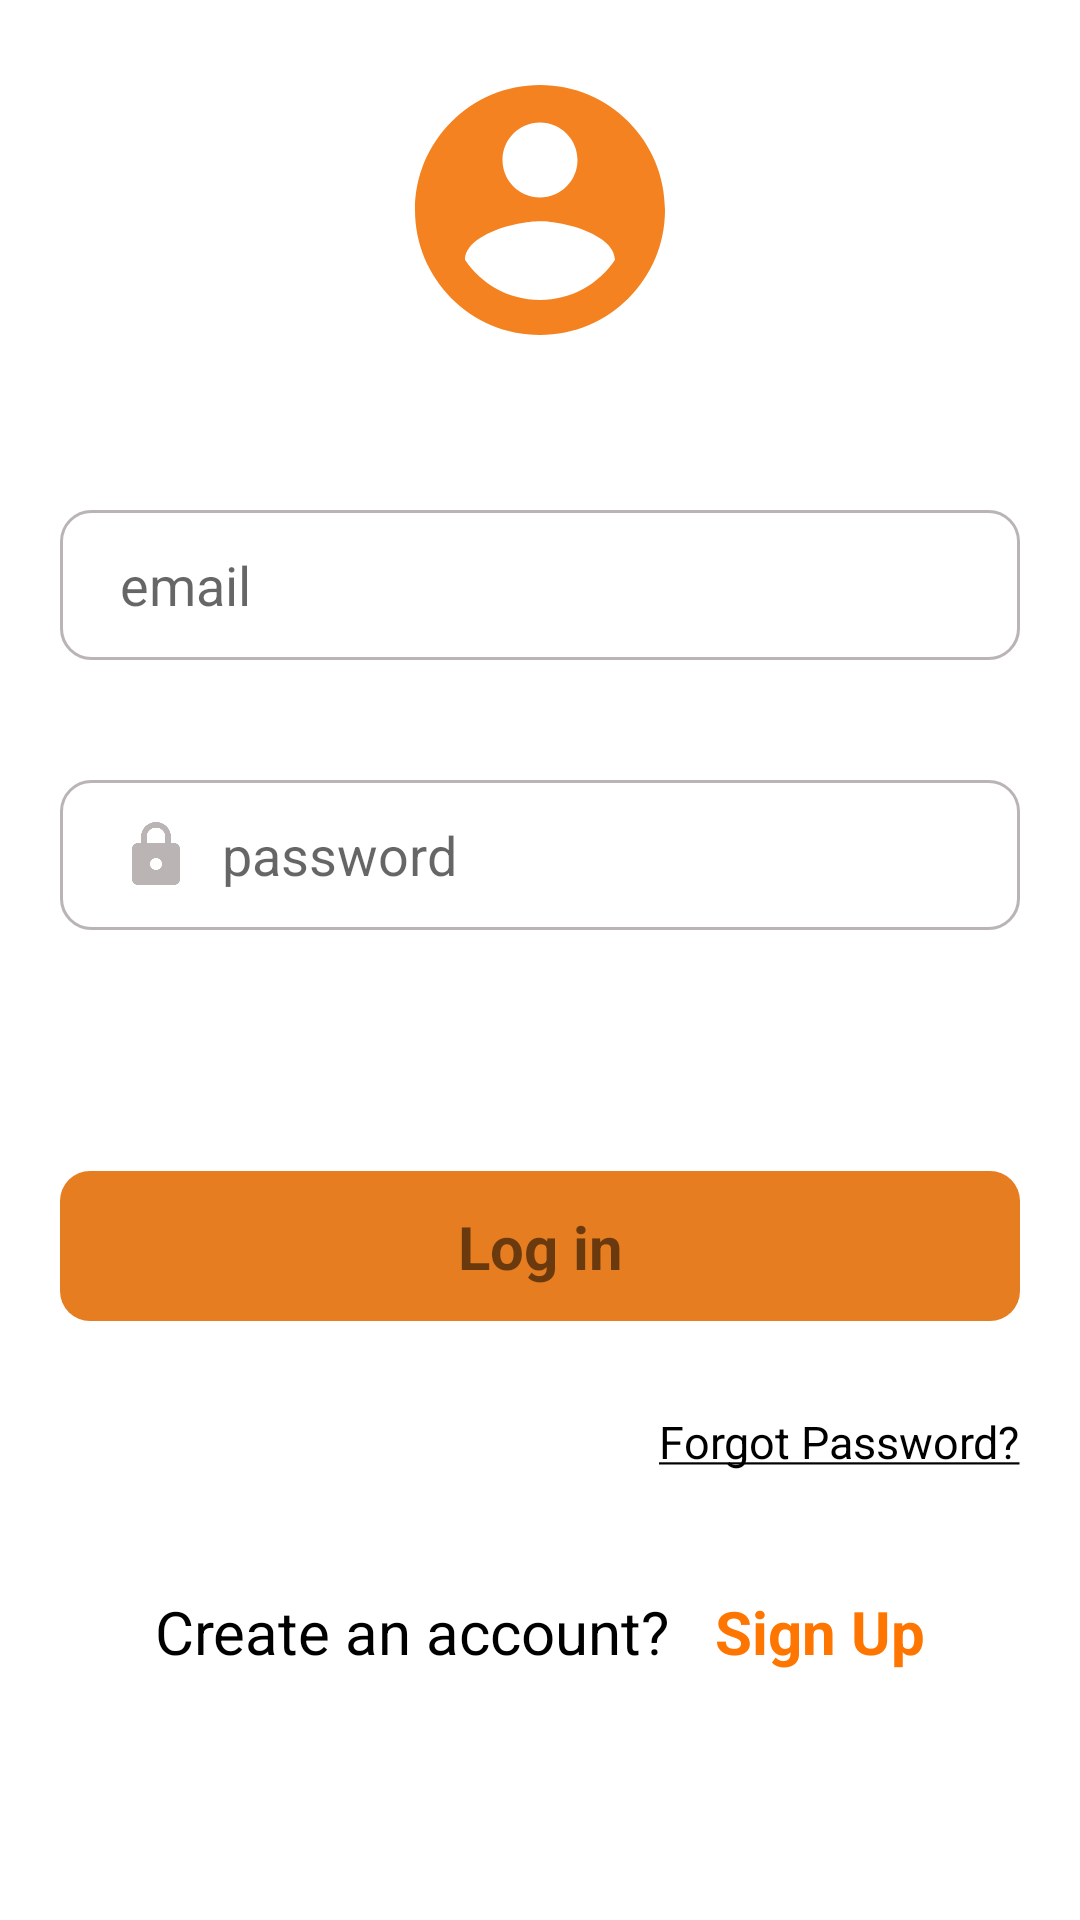

Screen size 1080px×1920px. Icon name, then its center in pixels as [x,y]:
account circle: [540,210]
